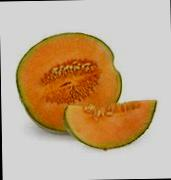Melon Ripe: (14, 33, 121, 136), (62, 99, 156, 150)
